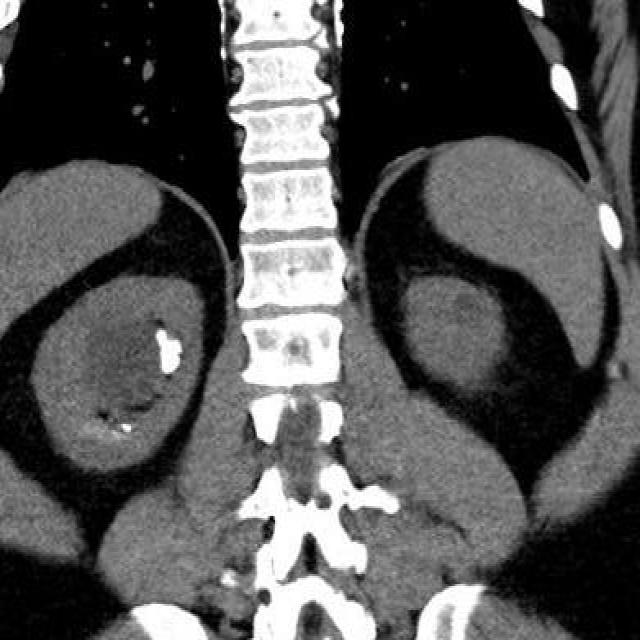Tas_Var: (154, 328, 186, 382), (118, 420, 137, 436)
